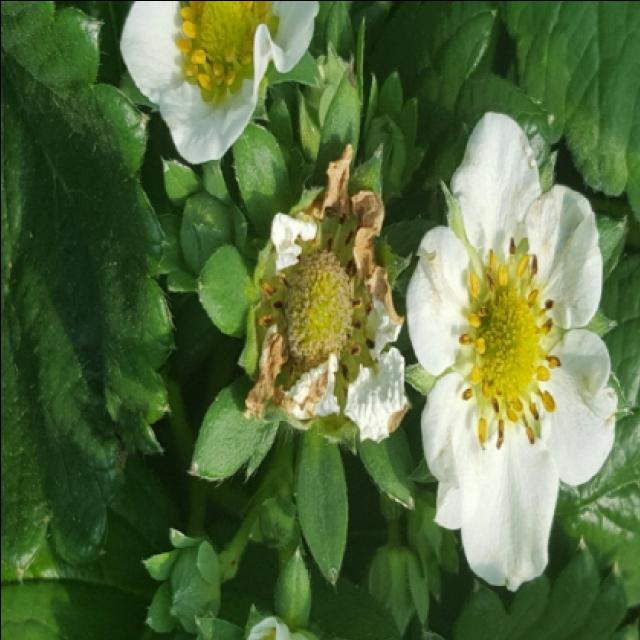Blossom Blight: (452, 235, 563, 453), (255, 202, 376, 396)
